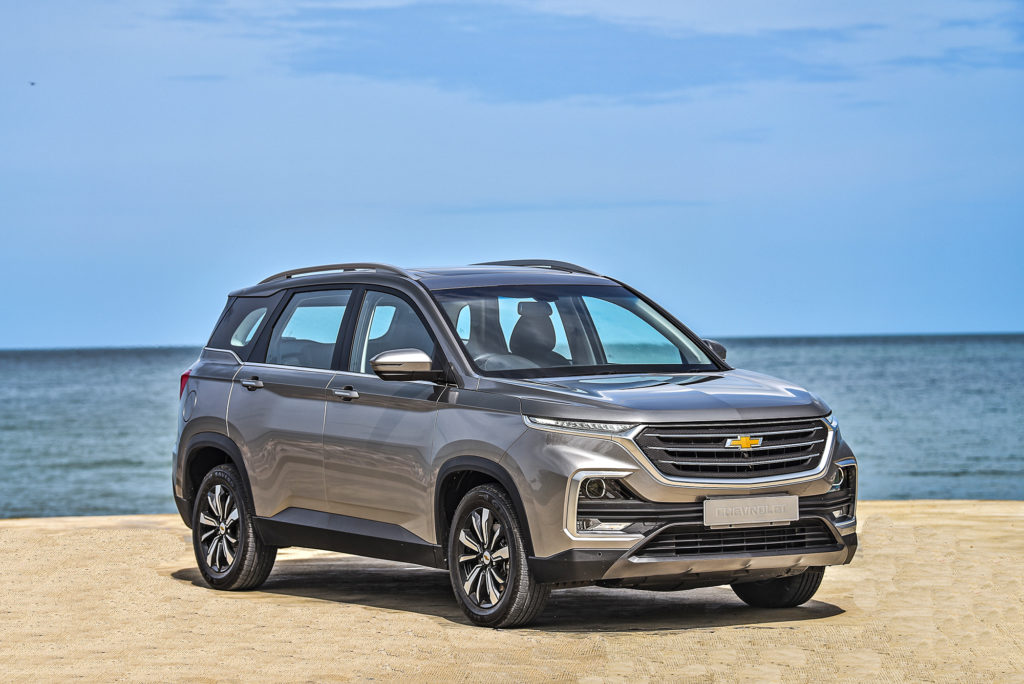pickup: (171, 256, 866, 631)
